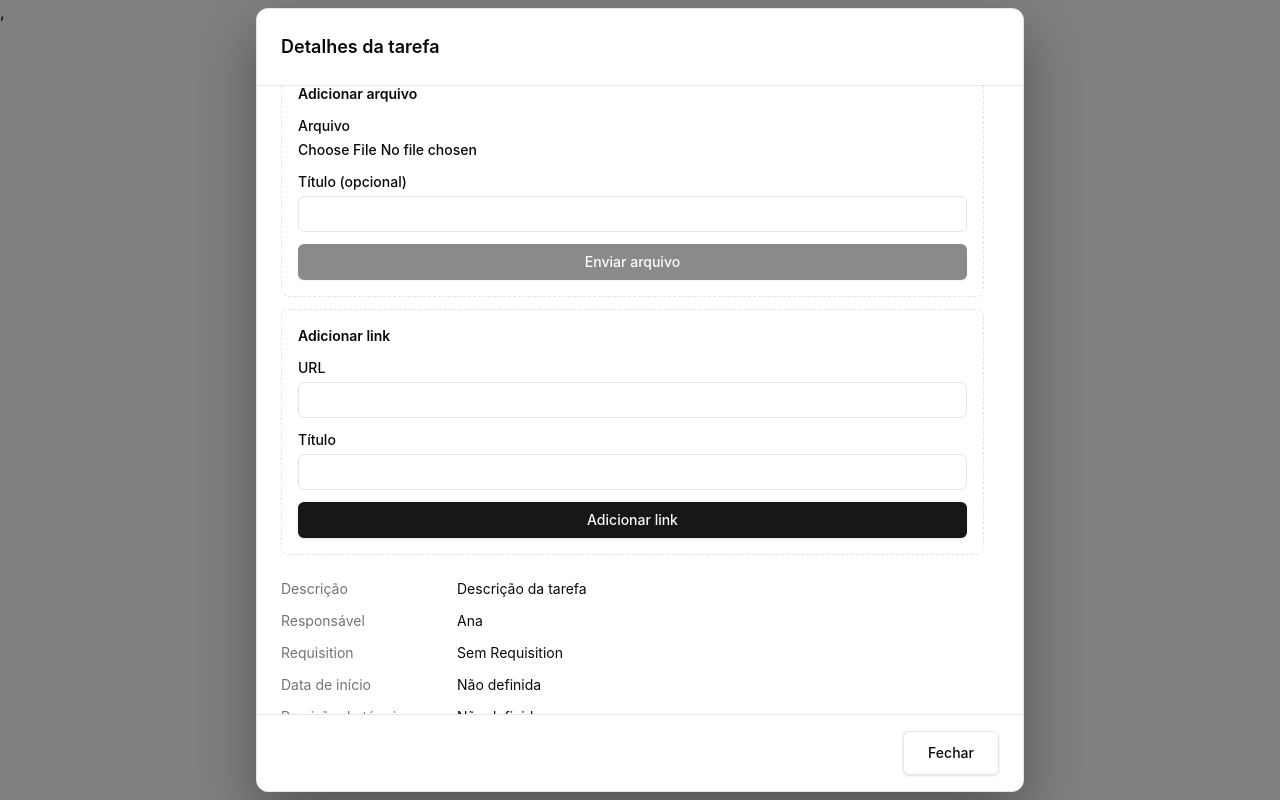
TaskDetailDialog › exige título antes de criar LINK
This screenshot has width=1280, height=800.
(page scrolled)
Type "https://example.com" into the field labelled "URL" at (632, 400), box [298,382,967,418]
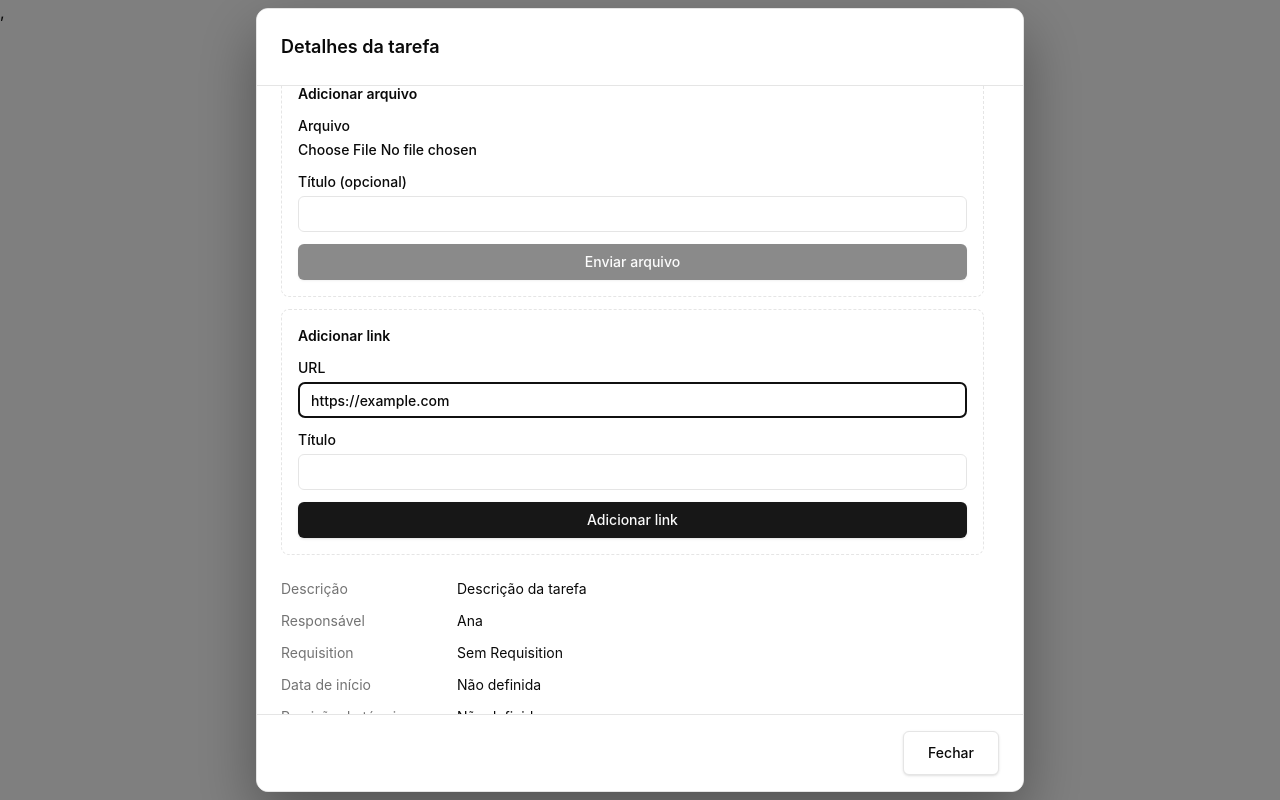
Submit the form "Adicionar link", box [281,309,984,555]
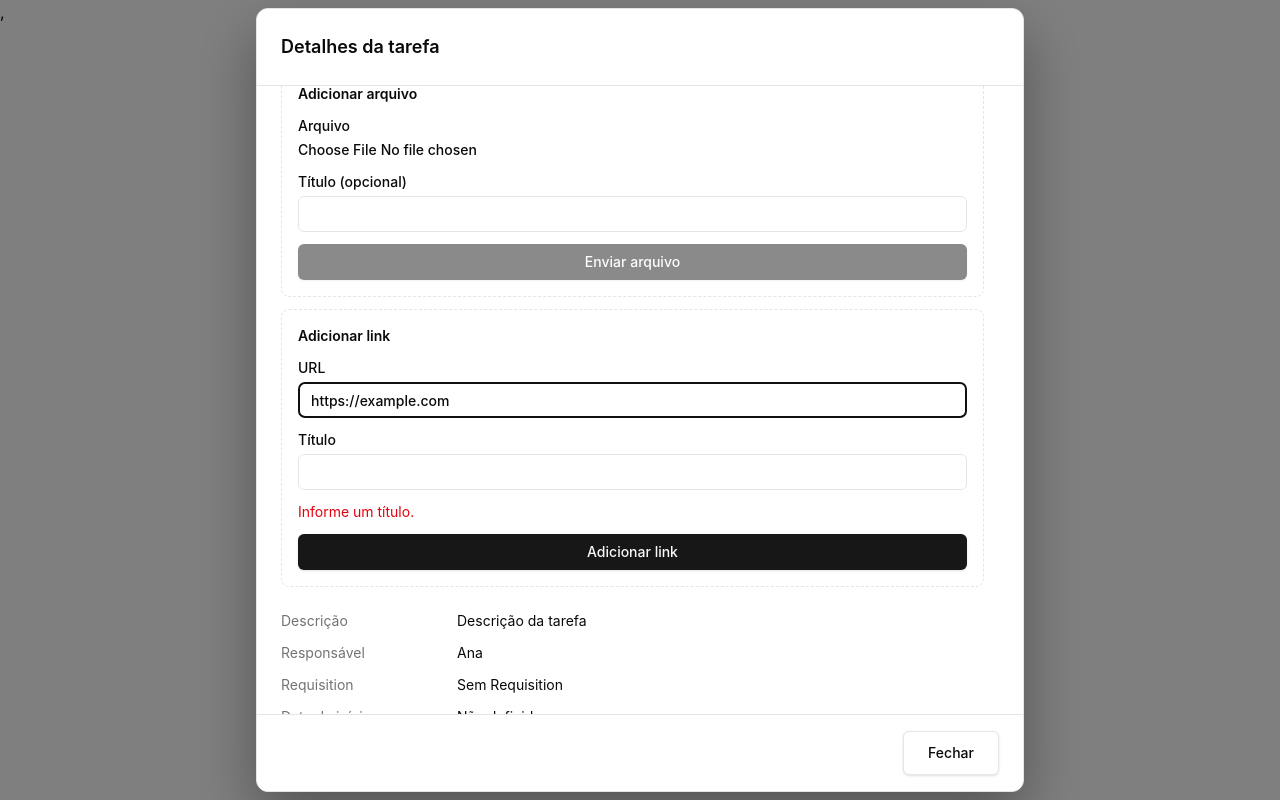
Now the message shows "Informe um título", box [298,503,414,520]
